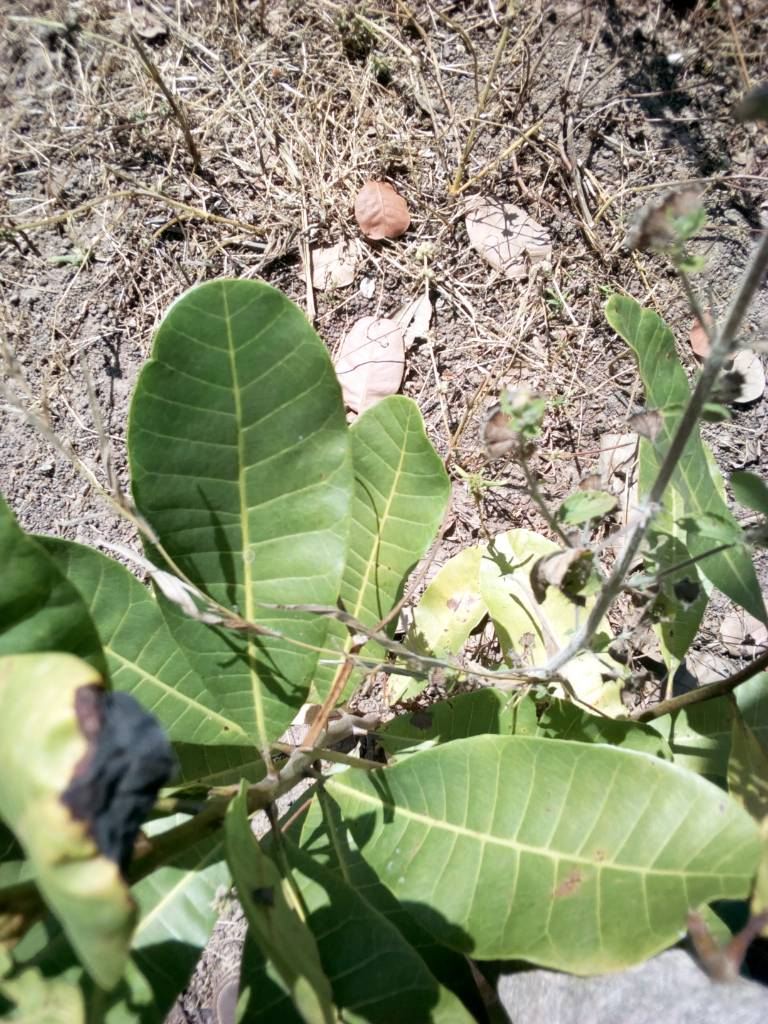Die-black: (1, 646, 190, 1000)
